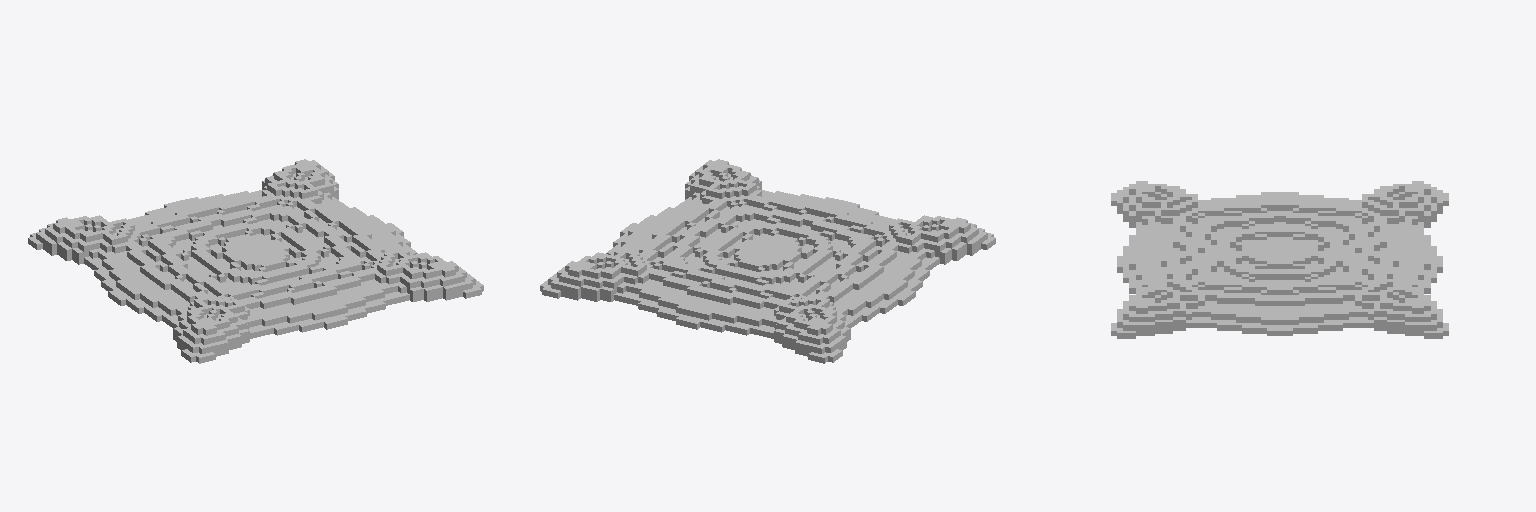
The model's file is Maya export test.obj.
The picture shows the model from 3 angles: view 1: azimuth 30°, elevation 25°; view 2: azimuth 150°, elevation 25°; view 3: azimuth 270°, elevation 25°; orthographic projection.
Visible parts, largest first — view 1: Jump_pad:Mesh polySurface12, Jump_pad:Mesh polySurface2; view 2: Jump_pad:Mesh polySurface12, Jump_pad:Mesh polySurface2; view 3: Jump_pad:Mesh polySurface12, Jump_pad:Mesh polySurface2, Jump_pad:Mesh polySurface1.
Boxes of the visible parts, box(x1,y1,x2,y2) form: Jump_pad:Mesh polySurface12: box(28, 159, 483, 363); Jump_pad:Mesh polySurface2: box(173, 219, 338, 286); Jump_pad:Mesh polySurface12: box(540, 159, 995, 363); Jump_pad:Mesh polySurface2: box(685, 219, 850, 286); Jump_pad:Mesh polySurface12: box(1111, 181, 1448, 338); Jump_pad:Mesh polySurface2: box(1205, 222, 1354, 284); Jump_pad:Mesh polySurface1: box(1173, 222, 1386, 283).
Bounding box in the file's own units: 5.4 × 0.4 × 5.4.